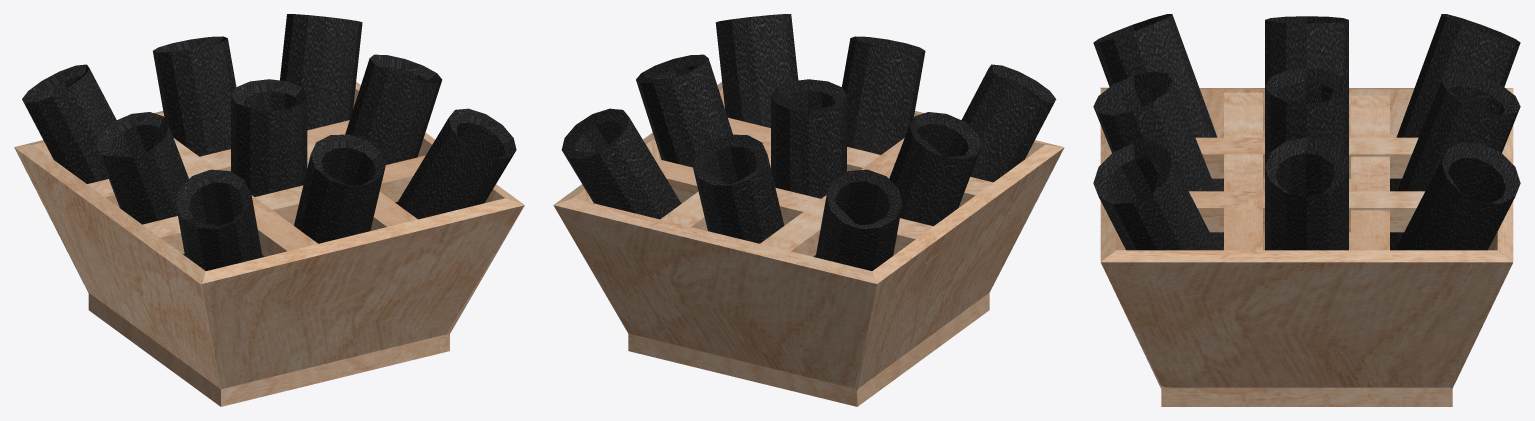
Rendered from multiAngleRack3inch.fbx.
3 renders of one model, left to right at view 1: azimuth 30°, elevation 25°; view 2: azimuth 150°, elevation 25°; view 3: azimuth 270°, elevation 25°, orthographic. The views are drawn at different scales.
Parts seen in each view (by area): view 1: Cube.003, Cube.002, Cylinder, Cylinder.007, Cylinder.001, Cylinder.003, Cylinder.004, Cylinder.008, Cylinder.002, Cylinder.006, Cylinder.005, Cube (+5 smaller); view 2: Cube.004, Cube.002, Cylinder, Cylinder.008, Cylinder.003, Cylinder.001, Cylinder.004, Cylinder.002, Cylinder.007, Cylinder.005, Cylinder.006, Cube (+5 smaller); view 3: Cube.001, Cylinder.007, Cylinder.008, Cylinder.002, Cylinder.001, Cylinder.003, Cylinder.005, Cylinder.006, Cylinder, Cube, Cube.008, Cylinder.004 (+6 smaller).
Boxes of the visible parts, x1=… form: Cube.003: x1=201, y1=198, x2=524, y2=389; Cube.002: x1=14, y1=144, x2=220, y2=388; Cylinder: x1=231, y1=79, x2=307, y2=257; Cylinder.007: x1=396, y1=108, x2=516, y2=219; Cylinder.001: x1=153, y1=36, x2=236, y2=156; Cylinder.003: x1=294, y1=134, x2=385, y2=243; Cylinder.004: x1=96, y1=112, x2=188, y2=255; Cylinder.008: x1=280, y1=14, x2=362, y2=130; Cylinder.002: x1=345, y1=54, x2=442, y2=203; Cylinder.006: x1=176, y1=169, x2=262, y2=270; Cylinder.005: x1=22, y1=64, x2=116, y2=183; Cube: x1=88, y1=293, x2=449, y2=406; Cube.004: x1=553, y1=198, x2=876, y2=389; Cube.002: x1=854, y1=145, x2=1064, y2=389; Cylinder: x1=771, y1=79, x2=846, y2=257; Cylinder.008: x1=561, y1=108, x2=681, y2=219; Cylinder.003: x1=842, y1=36, x2=925, y2=154; Cylinder.001: x1=692, y1=134, x2=784, y2=243; Cylinder.004: x1=889, y1=112, x2=981, y2=226; Cylinder.002: x1=636, y1=54, x2=732, y2=167; Cylinder.007: x1=715, y1=14, x2=798, y2=127; Cylinder.005: x1=815, y1=169, x2=902, y2=270; Cylinder.006: x1=961, y1=64, x2=1056, y2=182; Cube: x1=628, y1=293, x2=989, y2=406; Cube.001: x1=1100, y1=250, x2=1513, y2=388; Cylinder.007: x1=1093, y1=142, x2=1218, y2=250; Cylinder.008: x1=1395, y1=142, x2=1520, y2=250; Cylinder.002: x1=1265, y1=137, x2=1348, y2=250; Cylinder.001: x1=1390, y1=71, x2=1520, y2=250; Cylinder.003: x1=1093, y1=71, x2=1223, y2=250; Cylinder.005: x1=1390, y1=14, x2=1520, y2=191; Cylinder.006: x1=1093, y1=14, x2=1223, y2=191; Cylinder: x1=1265, y1=68, x2=1348, y2=165; Cube: x1=1161, y1=387, x2=1452, y2=406; Cube.008: x1=1224, y1=92, x2=1262, y2=250; Cylinder.004: x1=1265, y1=16, x2=1348, y2=84.
Size of the model in its own units: 0.762 by 0.5211 by 0.762.
19 materials, 19 textured.
